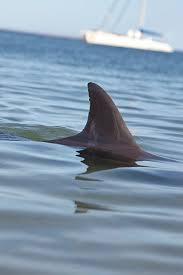fin: (43, 72, 167, 177)
